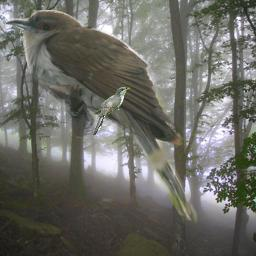Cuckoo: (6, 10, 198, 228), (93, 87, 130, 135)
